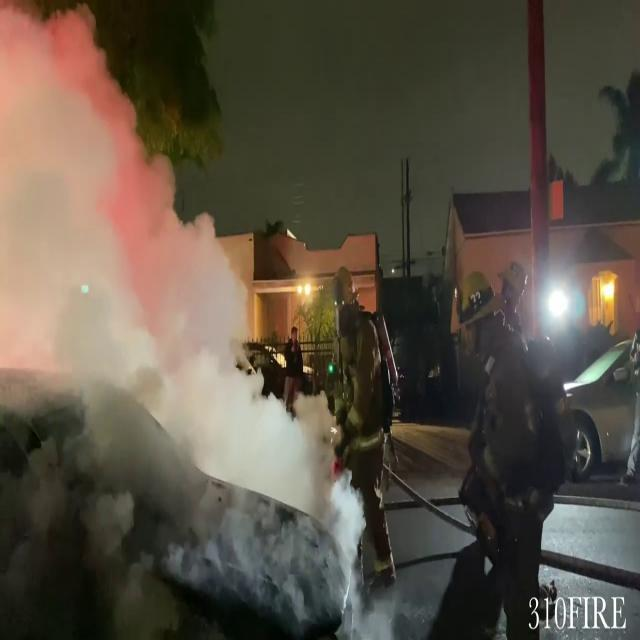Smoke: (0, 2, 356, 626)
